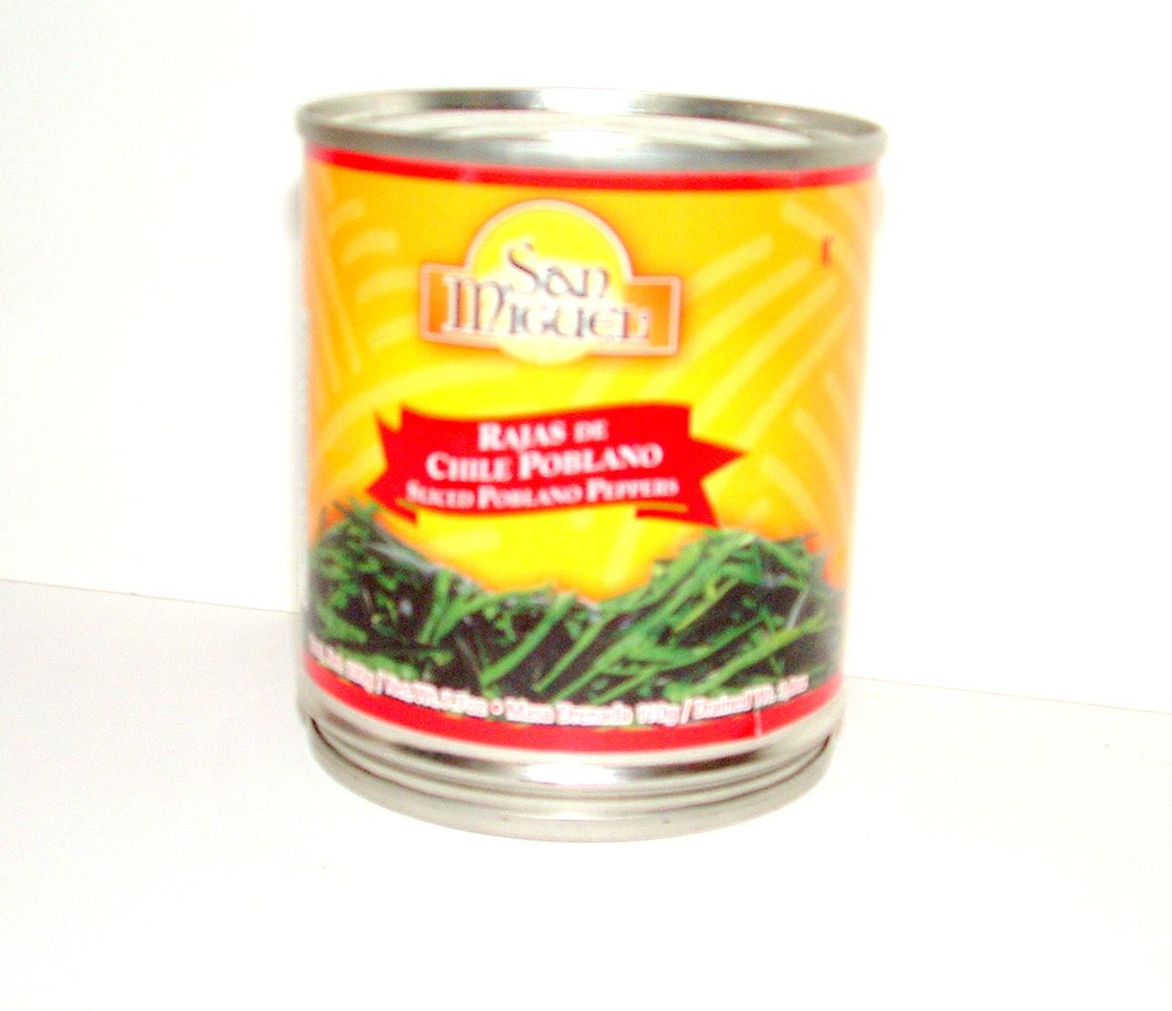metal: (298, 87, 886, 842)
